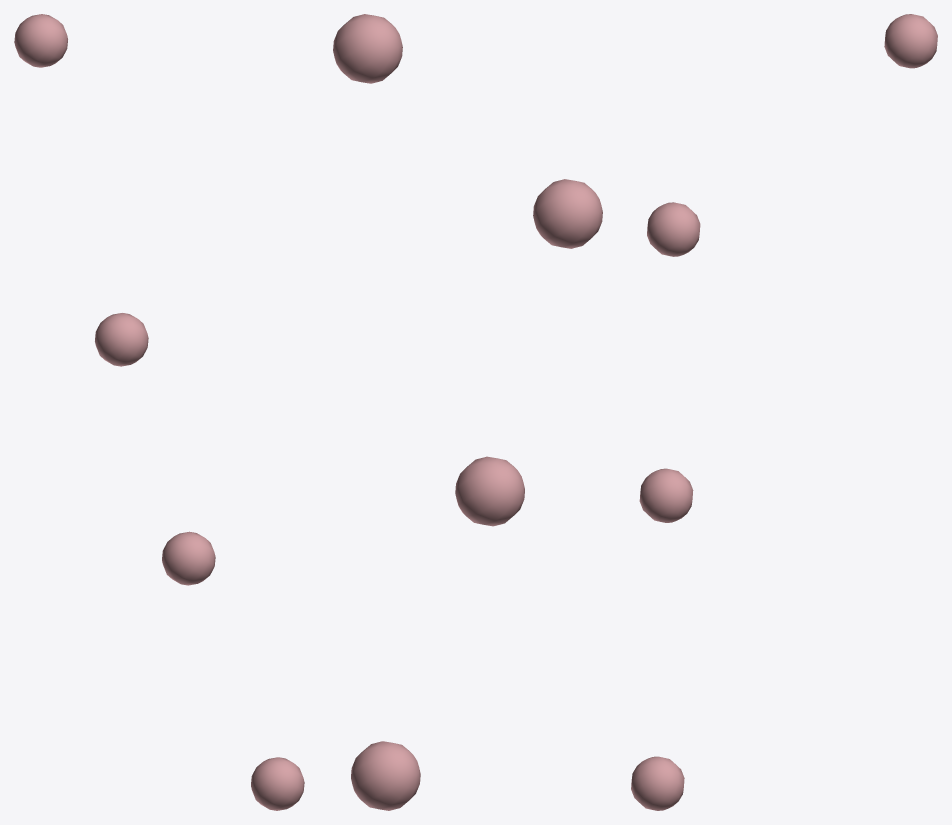
The picture shows the model from 3 angles, left to right: view 1: azimuth 30°, elevation 25°; view 2: azimuth 150°, elevation 25°; view 3: azimuth 270°, elevation 25°; orthographic projection. The views are drawn at different scales.
Parts seen in each view (by area): view 1: ZA_c97a67d8bcd9c891; view 2: ZA_c97a67d8bcd9c891; view 3: ZA_c97a67d8bcd9c891.
Part boxes in pixels (<box>): ZA_c97a67d8bcd9c891: <box>14,14,304,810</box>; ZA_c97a67d8bcd9c891: <box>333,14,602,810</box>; ZA_c97a67d8bcd9c891: <box>631,14,937,810</box>.
Size of the model in its own units: 0.0108 by 0.0383 by 0.0145.
